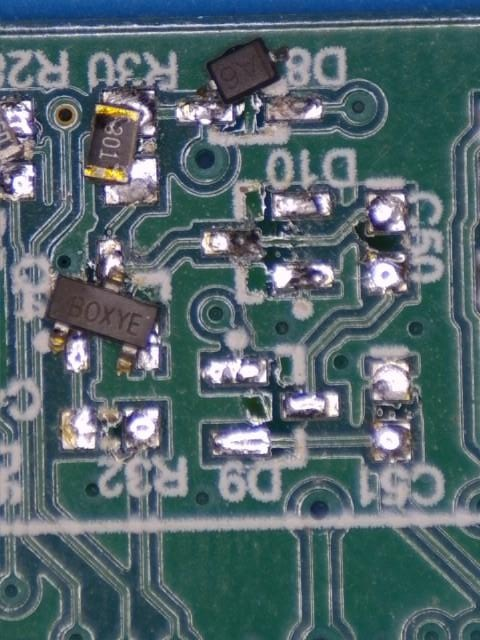pcb_defect: (45, 239, 161, 375), (176, 36, 290, 124), (82, 88, 157, 207), (0, 99, 36, 200)
